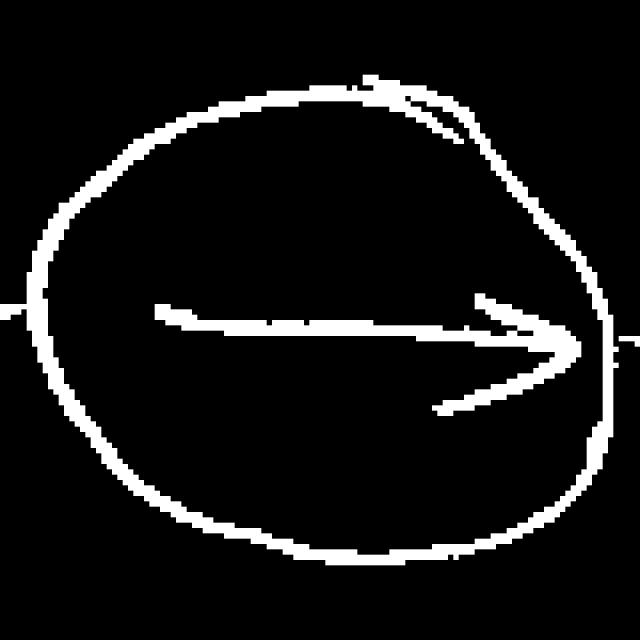current_source: (26, 63, 619, 580)
